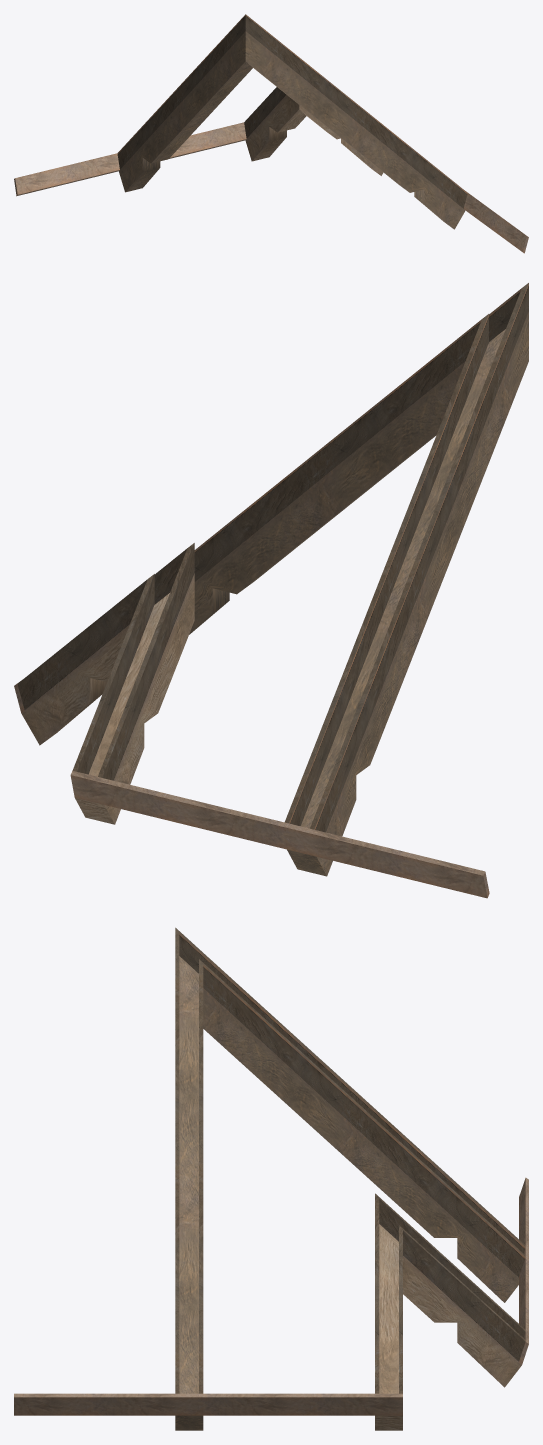
The model's file is RafterCornerCapA.fbx.
The picture shows the model from 3 angles, top to bottom: view 1: azimuth 30°, elevation 25°; view 2: azimuth 150°, elevation 25°; view 3: azimuth 270°, elevation 25°; orthographic projection. The views are drawn at different scales.
Visible parts, largest first — view 1: RafterCornerCapA; view 2: RafterCornerCapA; view 3: RafterCornerCapA.
Boxes of the visible parts, x1,y1,x2,y2 form: RafterCornerCapA: (14,14,528,253); RafterCornerCapA: (14,283,528,898); RafterCornerCapA: (14,927,528,1430).
Size of the model in its own units: 495 by 386 by 495.
